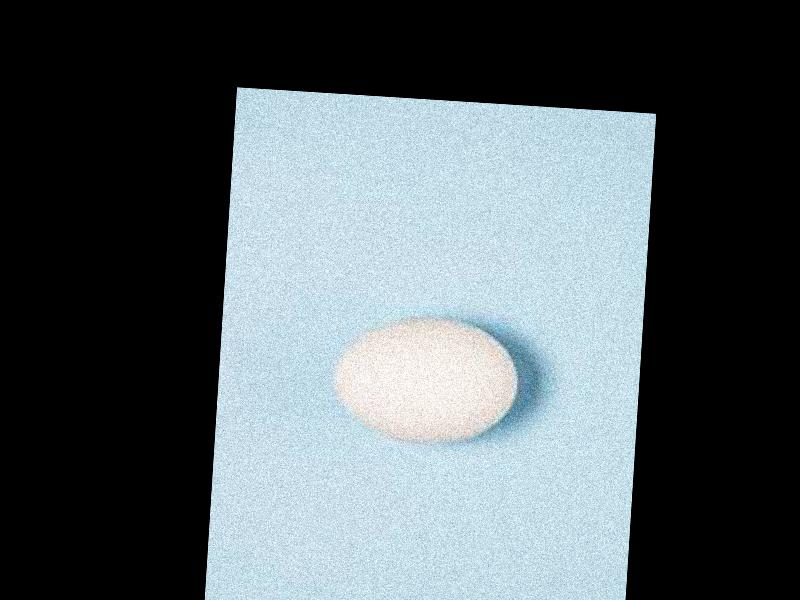Eggs: (327, 313, 521, 449)
